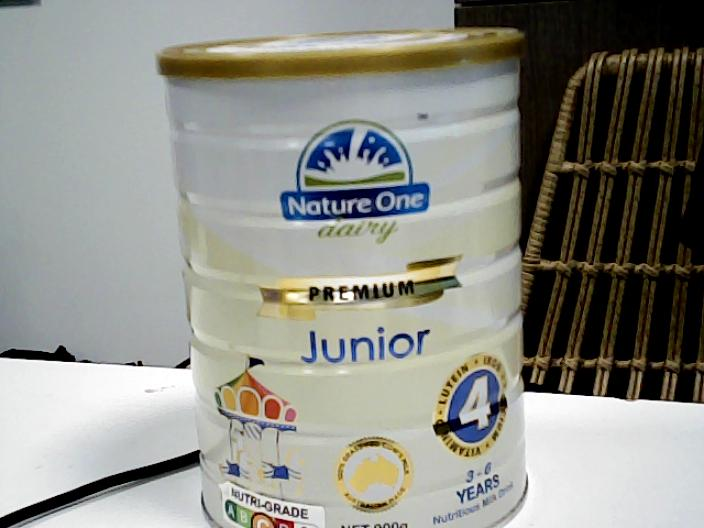Babymilk-powder_500-599g_NonHalal_NonHealthy: (157, 24, 532, 528)
